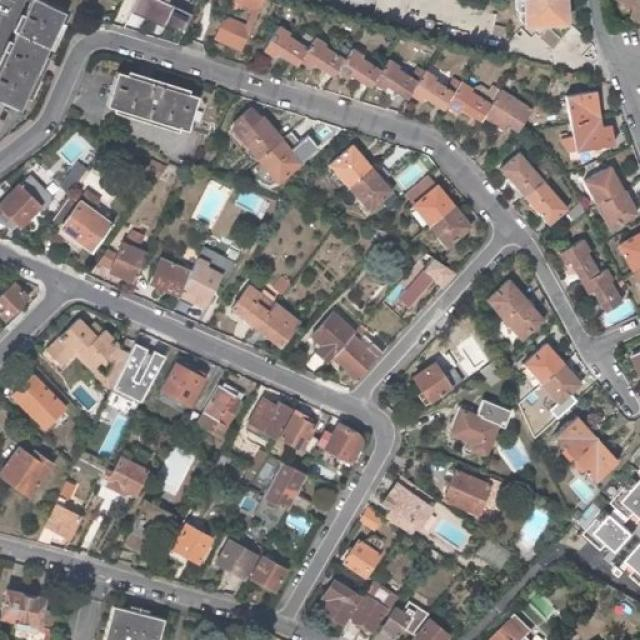immeuble: (0, 2, 81, 118), (99, 68, 210, 146), (448, 392, 523, 468), (580, 481, 640, 575), (555, 82, 630, 155), (238, 401, 328, 456), (318, 570, 388, 638), (51, 186, 120, 253), (587, 155, 640, 237), (91, 586, 161, 640), (322, 419, 385, 462), (372, 601, 440, 640)
maison: (227, 107, 312, 189), (493, 151, 570, 235), (308, 300, 389, 379), (552, 416, 630, 498), (364, 476, 456, 544), (559, 240, 634, 323), (515, 342, 588, 426), (66, 230, 162, 290), (232, 277, 299, 357), (329, 146, 398, 220), (416, 189, 485, 256), (7, 366, 71, 432), (488, 277, 544, 348), (433, 468, 503, 521), (434, 66, 493, 127), (155, 516, 219, 572), (407, 354, 466, 409), (482, 80, 536, 138), (94, 450, 156, 500), (336, 524, 392, 578), (404, 62, 452, 120), (2, 443, 54, 496), (0, 174, 42, 238), (200, 378, 250, 431), (302, 30, 348, 84), (265, 19, 311, 72), (378, 50, 420, 108), (340, 38, 384, 93), (217, 534, 260, 585), (0, 275, 39, 331), (246, 553, 292, 597), (170, 365, 208, 410)
piscine: (178, 171, 230, 230), (483, 426, 530, 486), (512, 503, 558, 557), (96, 408, 138, 462), (379, 153, 432, 192), (48, 127, 92, 169), (564, 474, 606, 509), (432, 508, 467, 548), (232, 182, 268, 219), (602, 292, 635, 329), (67, 381, 101, 414), (558, 145, 602, 166), (314, 122, 343, 144), (285, 512, 312, 534), (237, 494, 260, 516)
